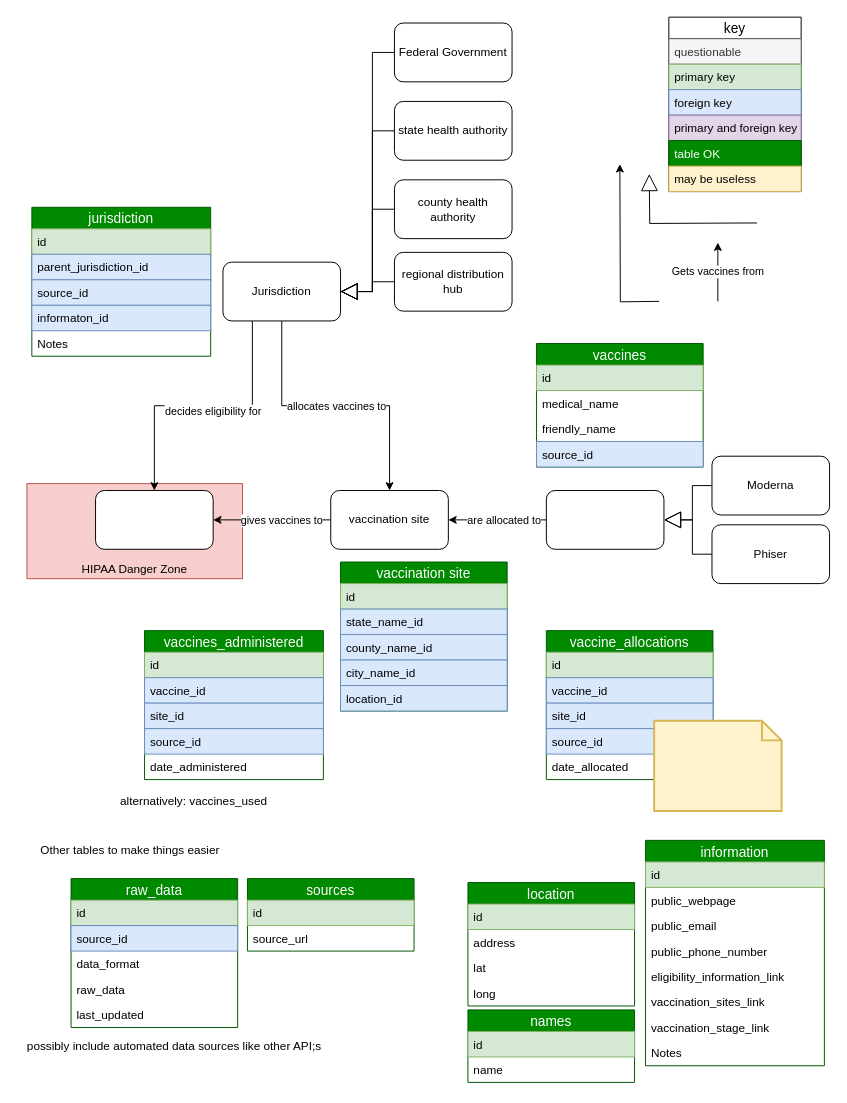
Some shapes in this 847 by 1103 pixel diagram are drawn without their labels. Here are the shapes that lost their labels. From the top down, the centre of each, then its label:
the point at 154,519: person
the point at 604,519: vaccine
the point at 717,765: this is very similar to vaccines_administered. could they be one table?
